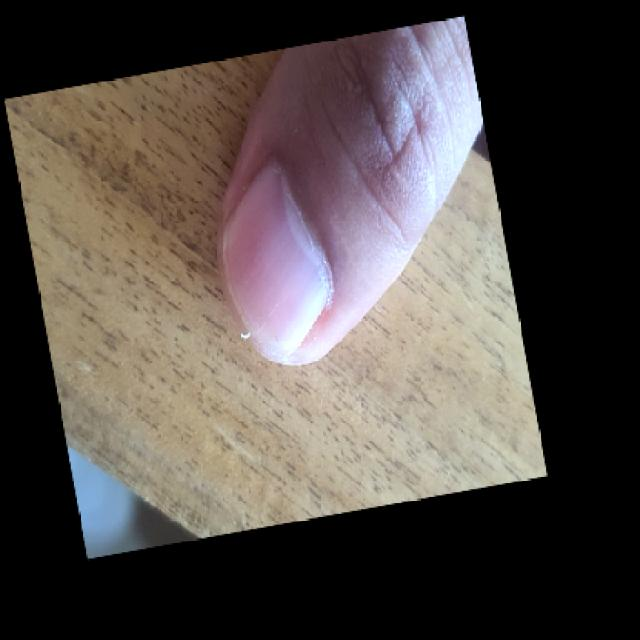Nail: (223, 158, 333, 356)
